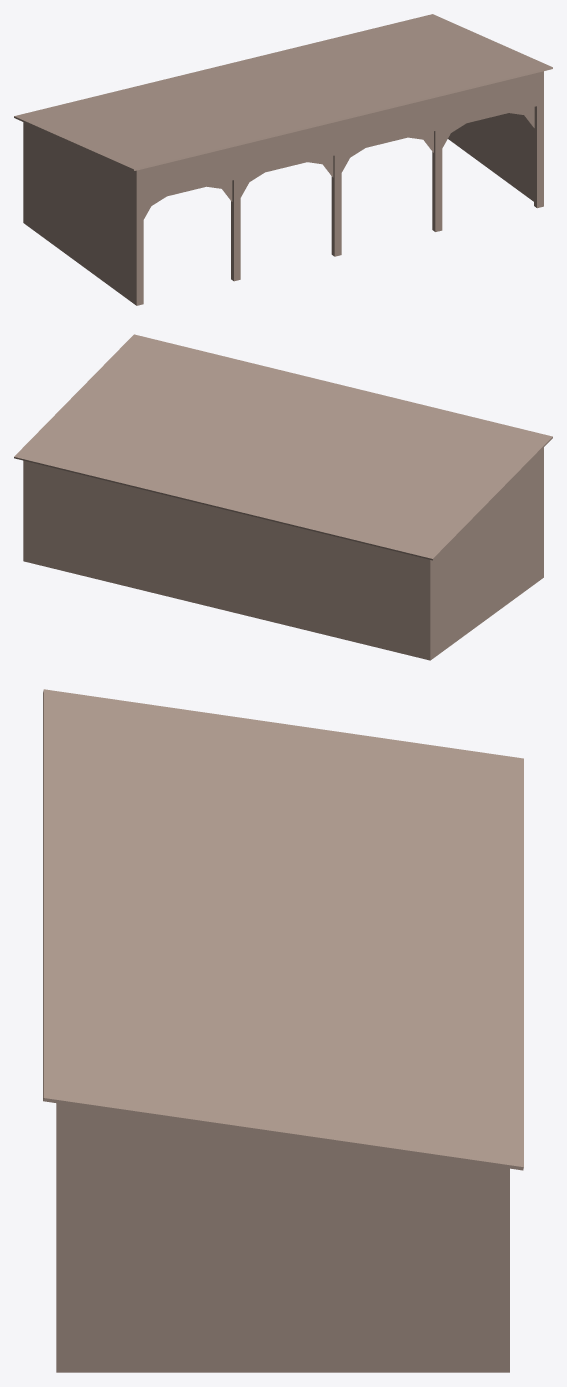
Rendered from Farm Shed 01.fbx.
3 views of the same model, one above another, from view 1: azimuth 30°, elevation 25°; view 2: azimuth 150°, elevation 25°; view 3: azimuth 270°, elevation 25° (orthographic). The views are drawn at different scales.
Parts seen in each view (by area): view 1: Farm Shed 01; view 2: Farm Shed 01; view 3: Farm Shed 01.
Boxes of the visible parts, <box> form: Farm Shed 01: <box>14,14,552,305</box>; Farm Shed 01: <box>14,334,552,660</box>; Farm Shed 01: <box>43,689,523,1372</box>.
Size of the model in its own units: 1906 by 610 by 947.
